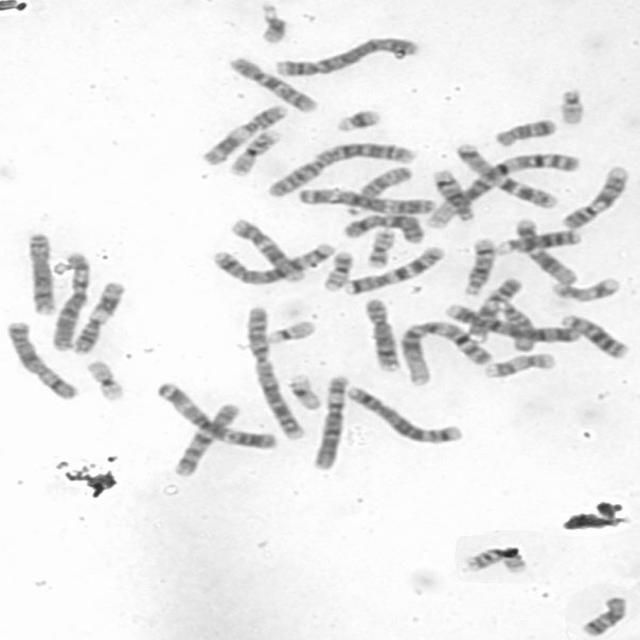A1: (420, 149, 582, 230), (396, 318, 494, 387)
A2: (263, 138, 416, 198), (243, 302, 307, 440)
A3: (151, 378, 281, 452), (294, 184, 436, 216)
B4: (270, 34, 422, 78), (441, 301, 583, 344)
B5: (344, 382, 464, 444), (208, 240, 339, 286)
C10: (168, 400, 242, 478), (224, 53, 320, 113)
C11: (198, 101, 290, 167), (68, 277, 128, 355)
C12: (227, 214, 309, 284), (512, 215, 580, 286)
C6: (48, 249, 93, 353), (308, 372, 351, 470)
C7: (450, 139, 560, 211), (340, 243, 446, 297)
C8: (360, 294, 403, 372), (22, 228, 59, 318)
C9: (558, 163, 630, 230), (464, 275, 525, 342)
D13: (556, 311, 633, 361), (490, 228, 582, 256)
D14: (430, 166, 477, 222), (459, 235, 497, 296)
D15: (341, 162, 414, 218), (495, 298, 537, 353)
E16: (225, 125, 283, 177), (459, 544, 530, 576)
E17: (480, 350, 556, 380), (548, 274, 622, 304)
E18: (576, 592, 630, 638), (491, 115, 558, 148)
F19: (83, 358, 126, 402), (283, 371, 322, 412)
F20: (362, 226, 398, 269), (320, 250, 355, 292)
G21: (253, 0, 290, 45), (332, 105, 384, 134)
G22: (262, 318, 317, 346), (555, 85, 587, 127)
X: (3, 318, 81, 402), (338, 211, 427, 245)
